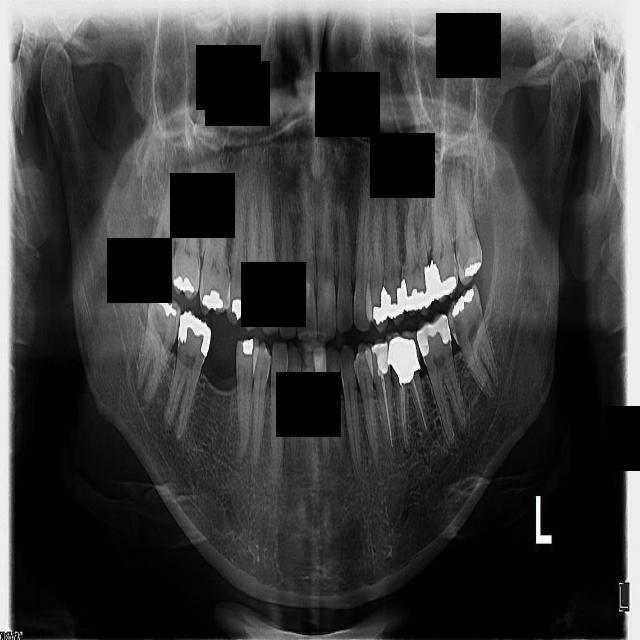74: (380, 375, 396, 449), (411, 379, 429, 431), (400, 383, 408, 449)
NucleOSS Implant: (168, 306, 223, 358), (398, 267, 435, 312), (426, 255, 459, 301), (447, 288, 478, 320), (390, 351, 416, 387), (153, 290, 179, 320), (199, 288, 226, 315), (383, 287, 405, 319), (373, 287, 389, 326), (172, 272, 197, 296), (462, 257, 483, 280), (148, 261, 169, 283), (230, 299, 243, 321), (248, 305, 258, 321), (243, 338, 253, 354)
Sterngold Implant: (448, 315, 465, 342)
Straumann Implant: (407, 310, 460, 359), (313, 347, 329, 394), (371, 343, 388, 375)
Zimmer Implant: (384, 328, 422, 372)
